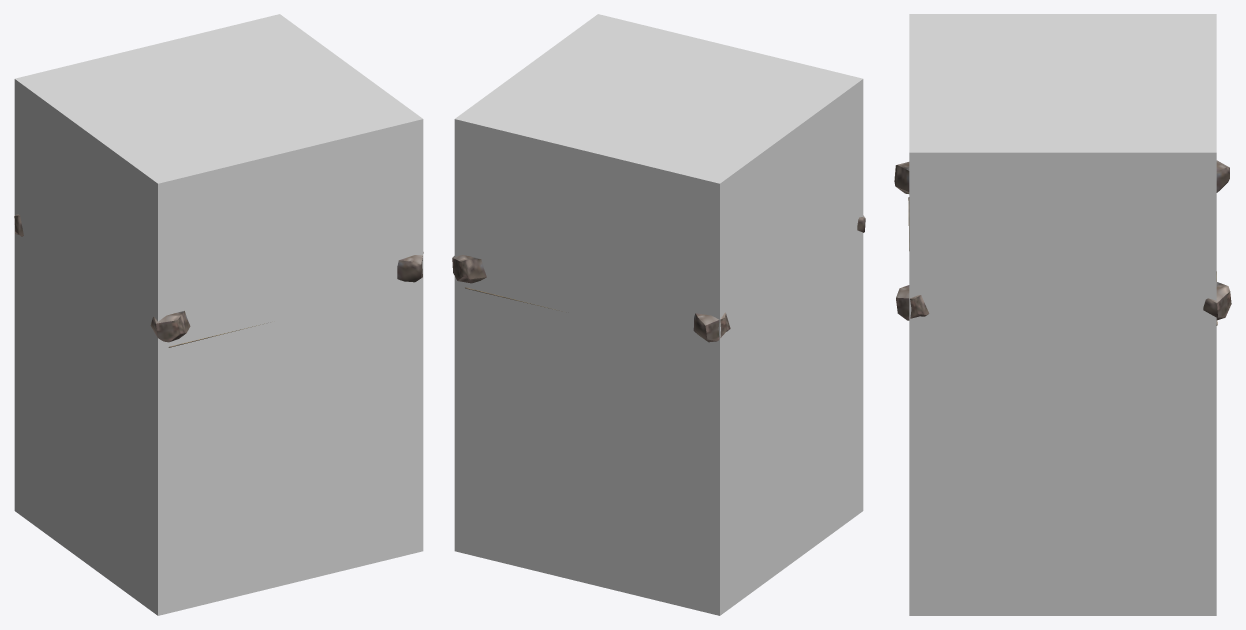
File: Scenc_Build_XuanWuShan_ShiTouDeng_1.FBX
3 views of the same model, side by side, from view 1: azimuth 30°, elevation 25°; view 2: azimuth 150°, elevation 25°; view 3: azimuth 270°, elevation 25° (orthographic). The views are drawn at different scales.
Visible parts, largest first — view 1: Scenc_Build_XuanWuShan_ShiTouDeng_1_Xzn, Scenc_Build_XuanWuShan_ShiTouDeng_1; view 2: Scenc_Build_XuanWuShan_ShiTouDeng_1_Xzn, Scenc_Build_XuanWuShan_ShiTouDeng_1; view 3: Scenc_Build_XuanWuShan_ShiTouDeng_1_Xzn, Scenc_Build_XuanWuShan_ShiTouDeng_1.
Part boxes in pixels (x1=…): Scenc_Build_XuanWuShan_ShiTouDeng_1_Xzn: x1=14, y1=14, x2=423, y2=615; Scenc_Build_XuanWuShan_ShiTouDeng_1: x1=14, y1=214, x2=423, y2=347; Scenc_Build_XuanWuShan_ShiTouDeng_1_Xzn: x1=454, y1=14, x2=863, y2=615; Scenc_Build_XuanWuShan_ShiTouDeng_1: x1=452, y1=215, x2=865, y2=342; Scenc_Build_XuanWuShan_ShiTouDeng_1_Xzn: x1=909, y1=14, x2=1216, y2=615; Scenc_Build_XuanWuShan_ShiTouDeng_1: x1=894, y1=160, x2=1231, y2=325.
Size of the model in its own units: 87.98 by 135 by 87.98.
